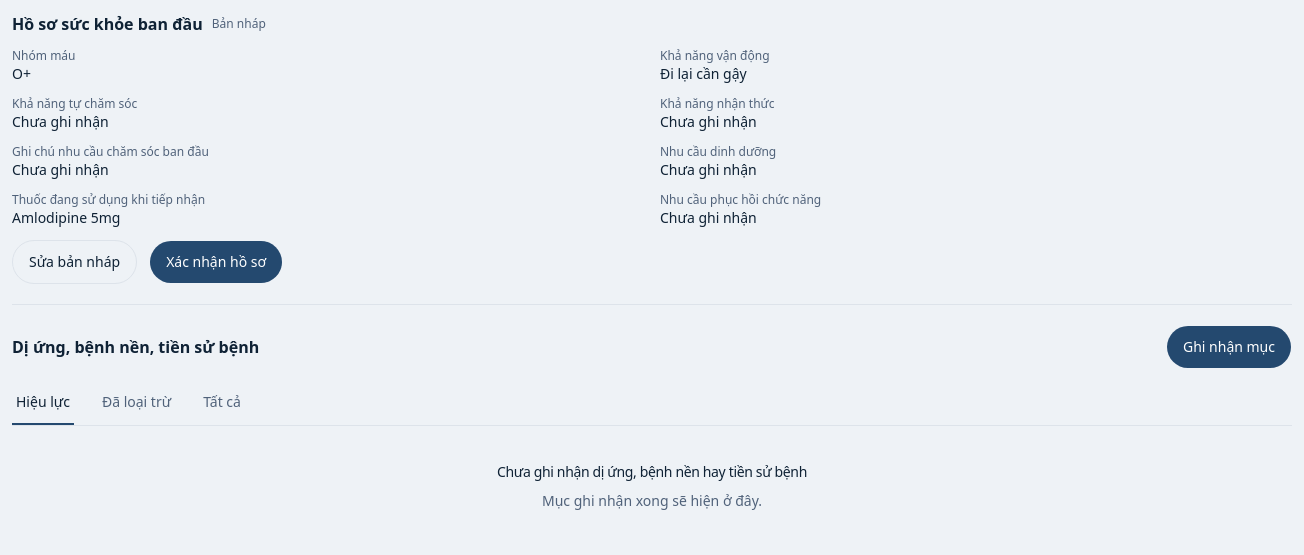
HealthTab, hồ sơ sức khỏe ban đầu › FR_017_xacNhan_guiIfMatch_roiKhongConSuaDuoc
Click the button "Xác nhận hồ sơ": click(216, 262) [149,240,283,284]
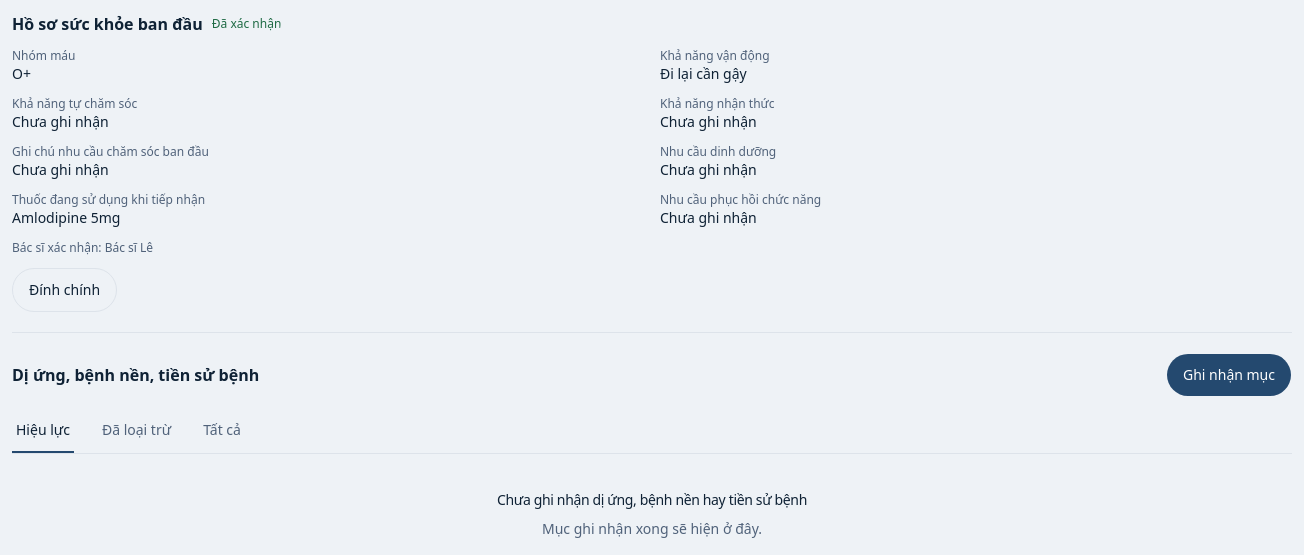
Check: the text "Đã xác nhận" is shown, box [211,12,282,36]
Check: the button "Sửa bản nháp" is gone
Check: the button "Đính chính" is shown, box [12,268,117,312]
